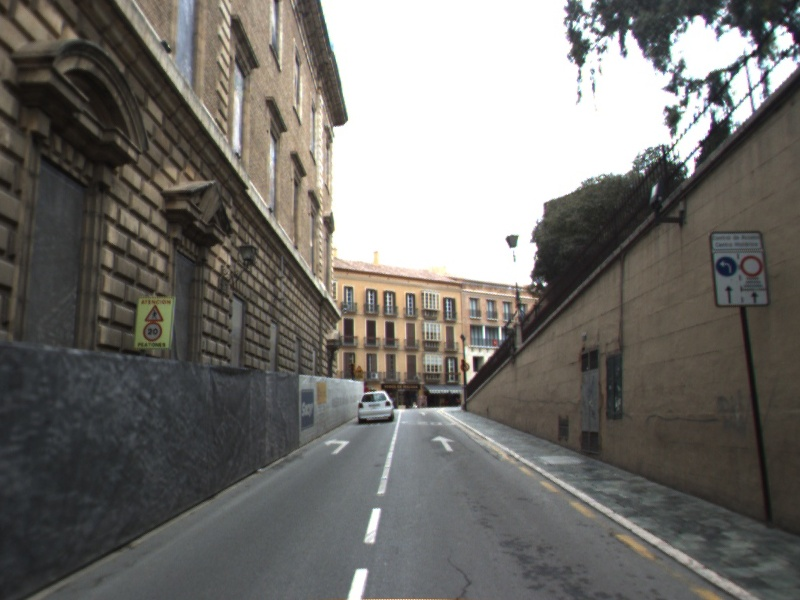LEFT: (322, 437, 352, 456)
STRAIGHT: (429, 433, 458, 453)
